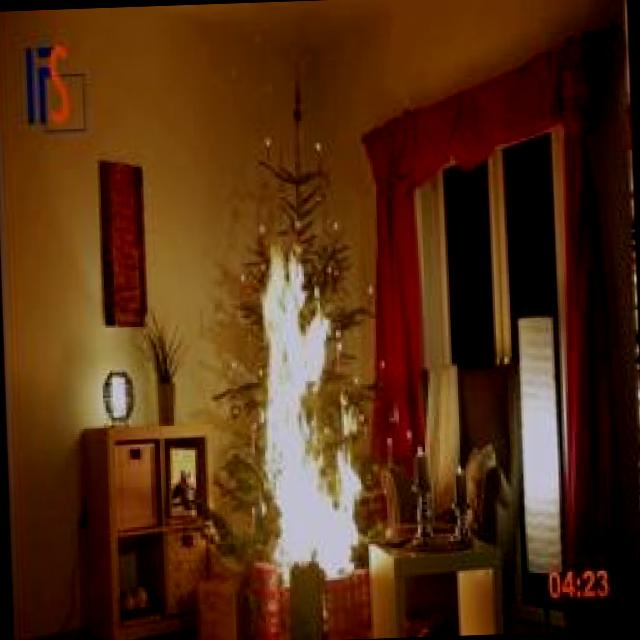fire: (232, 202, 395, 577)
